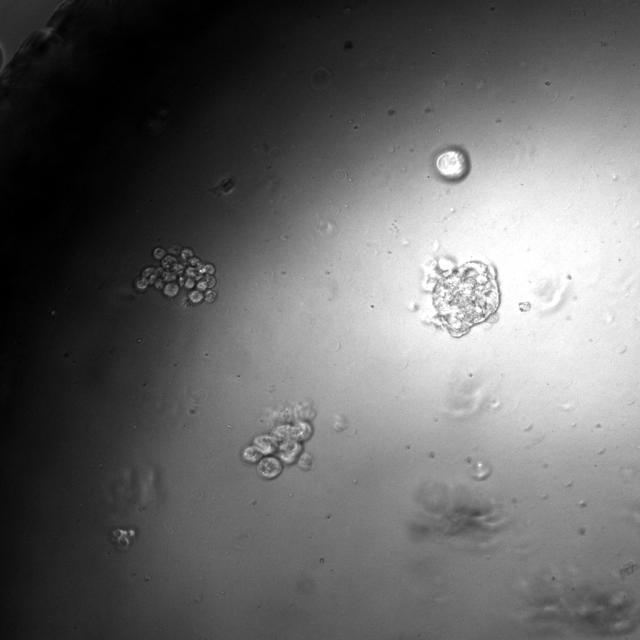organoid: (520, 575, 639, 637), (422, 254, 499, 338), (241, 400, 316, 480), (410, 483, 506, 543), (134, 245, 217, 307), (102, 465, 166, 517), (436, 150, 466, 178), (109, 526, 138, 551), (209, 175, 236, 195), (311, 68, 331, 90), (332, 415, 348, 432), (519, 302, 531, 312), (342, 41, 353, 50)
